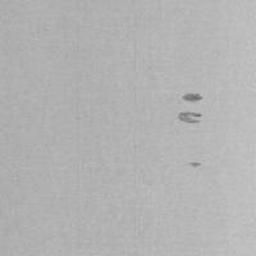Inclusion: (177, 111, 204, 124), (180, 92, 204, 102), (188, 161, 201, 168)
